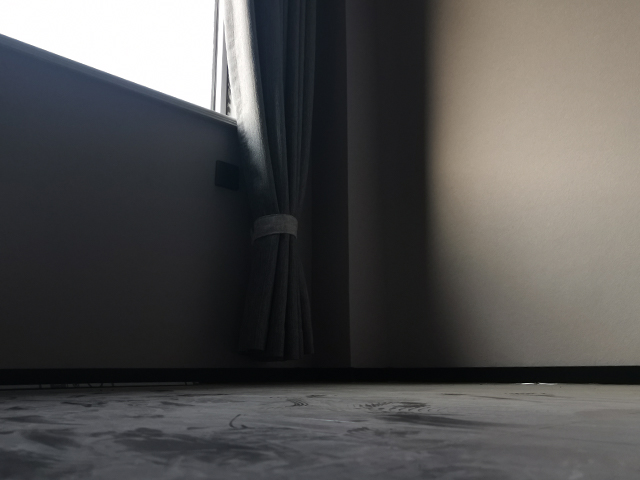curtain: (220, 1, 317, 363)
